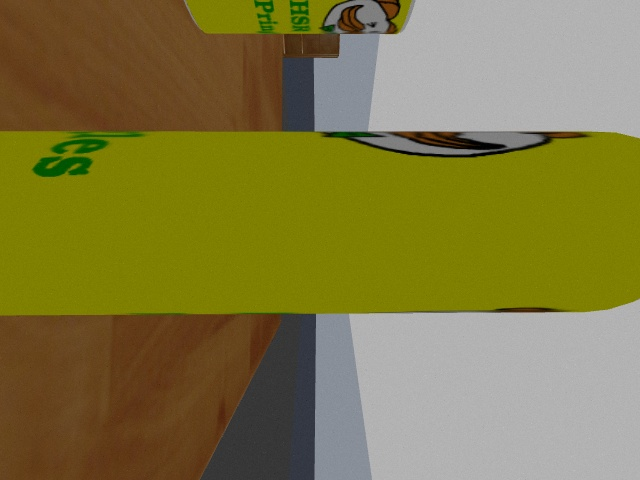chipsdose_gelb: (1, 131, 640, 316), (182, 1, 415, 34)
